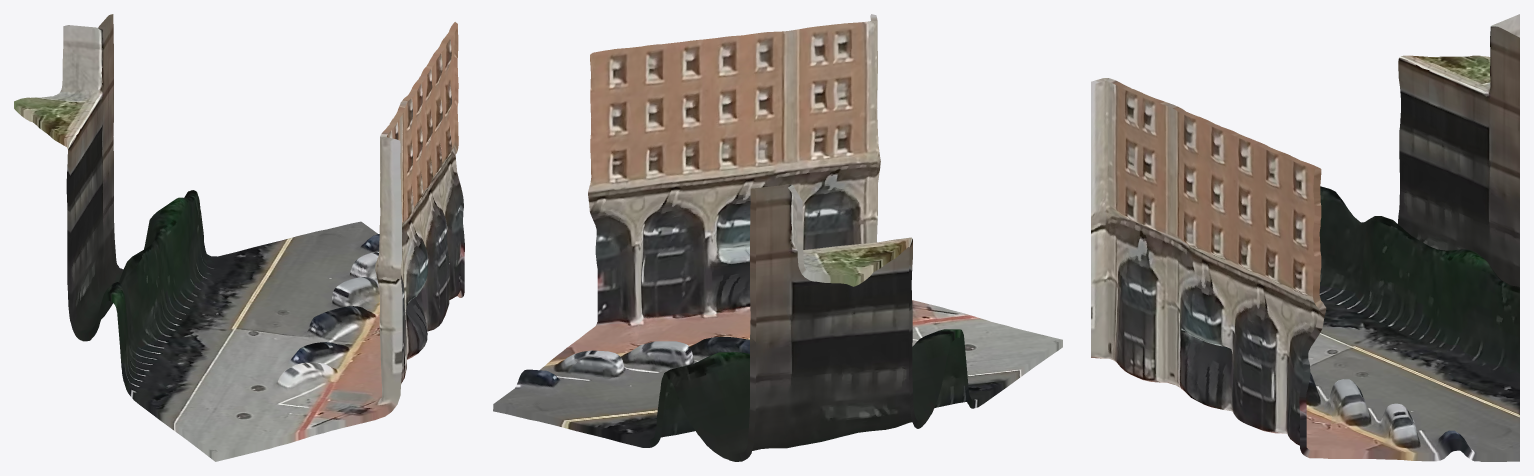
Rendered from z20-167786-405228-h0-yup-uvflip-v3-world.glb.
3 views of the same model, side by side, from view 1: azimuth 30°, elevation 25°; view 2: azimuth 150°, elevation 25°; view 3: azimuth 270°, elevation 25° (orthographic). The views are drawn at different scales.
Bounding box in the file's own units: 30.2 × 22.92 × 30.32.
Materials: 1 (1 with a texture image).
